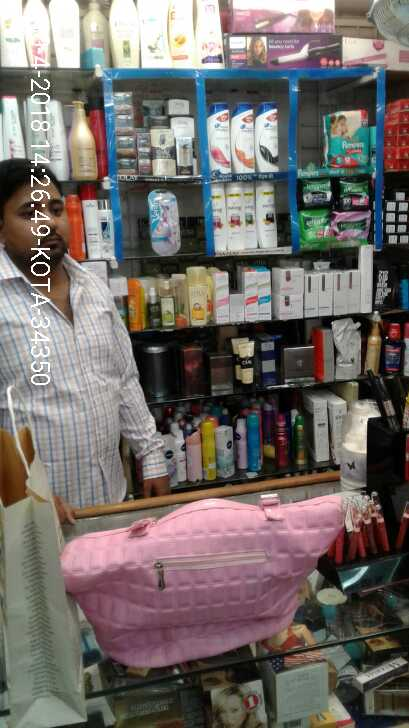venus: (150, 187, 182, 254)
